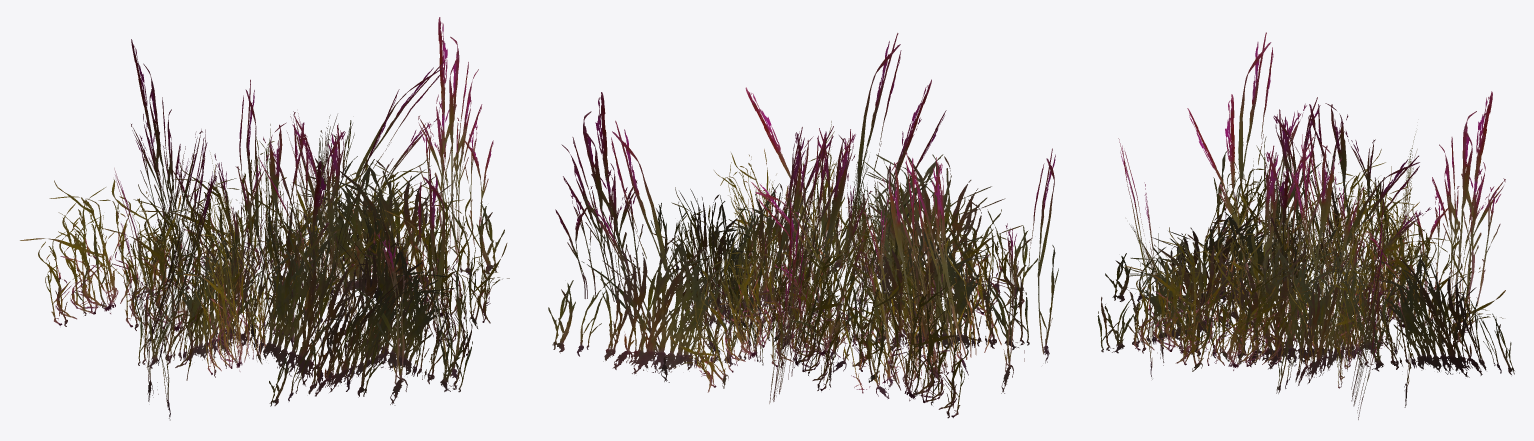
3 renders of one model, left to right at view 1: azimuth 30°, elevation 25°; view 2: azimuth 150°, elevation 25°; view 3: azimuth 270°, elevation 25°, orthographic. The views are drawn at different scales.
Visible parts, largest first — view 1: SM_HL_WildGrass_02_LOD0; view 2: SM_HL_WildGrass_02_LOD0; view 3: SM_HL_WildGrass_02_LOD0.
Part boxes in pixels (x1=…): SM_HL_WildGrass_02_LOD0: x1=20, y1=17, x2=509, y2=420; SM_HL_WildGrass_02_LOD0: x1=548, y1=33, x2=1058, y2=418; SM_HL_WildGrass_02_LOD0: x1=1097, y1=32, x2=1514, y2=419.
Bounding box in the file's own units: 0.8425 × 0.491 × 0.7399.
1 material, 1 textured.
